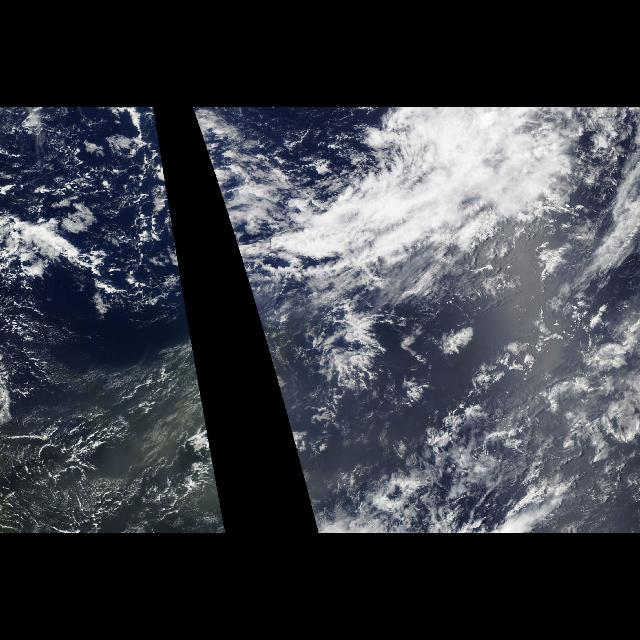Gravel: (26, 126, 178, 308), (460, 351, 636, 494)
